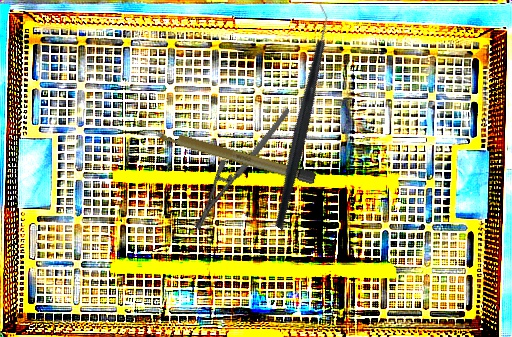Chopper: (201, 0, 398, 231)
Needle Holder: (168, 107, 318, 232)
Scalpel Handle: (152, 126, 318, 185)
